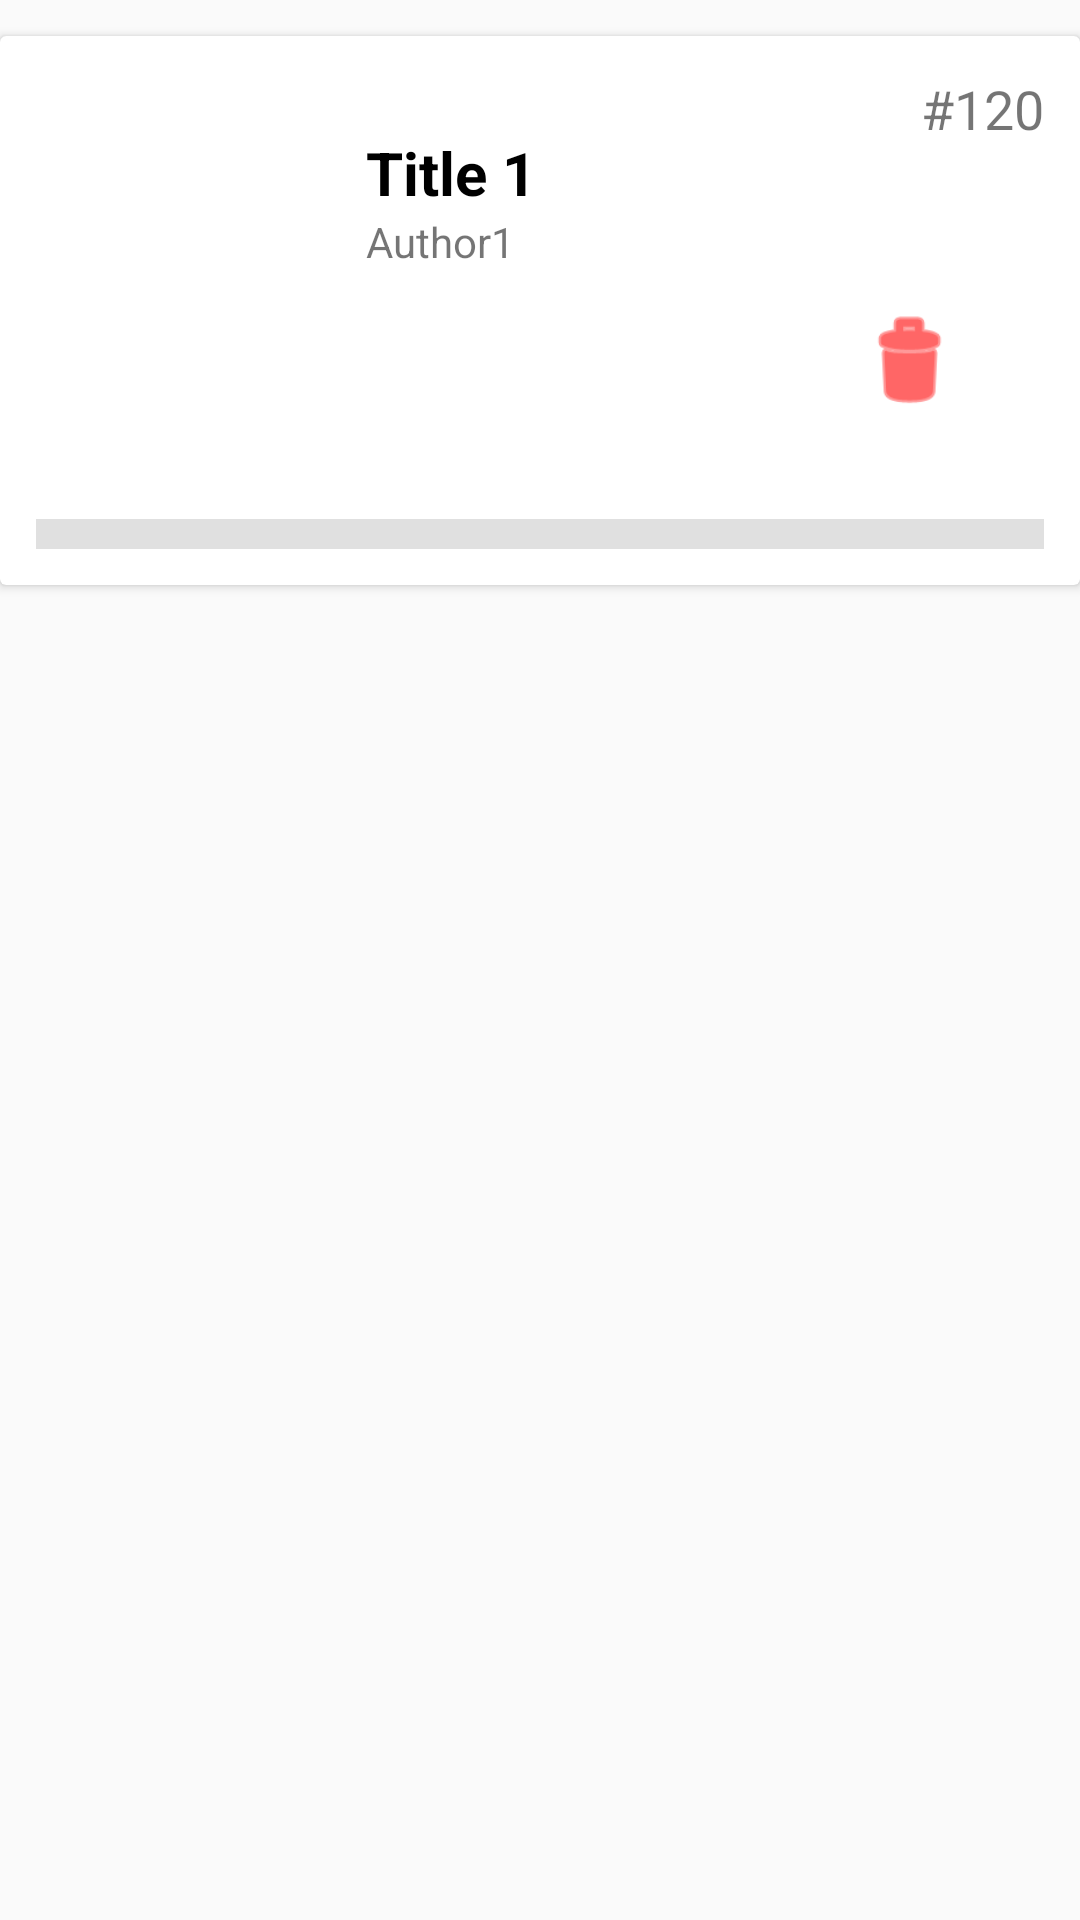

Icon bounding boxes for this 1080px×1920px phone screenshot, format (x1, y1, x2, y2):
Eliminar libro: (878, 316, 941, 403)
